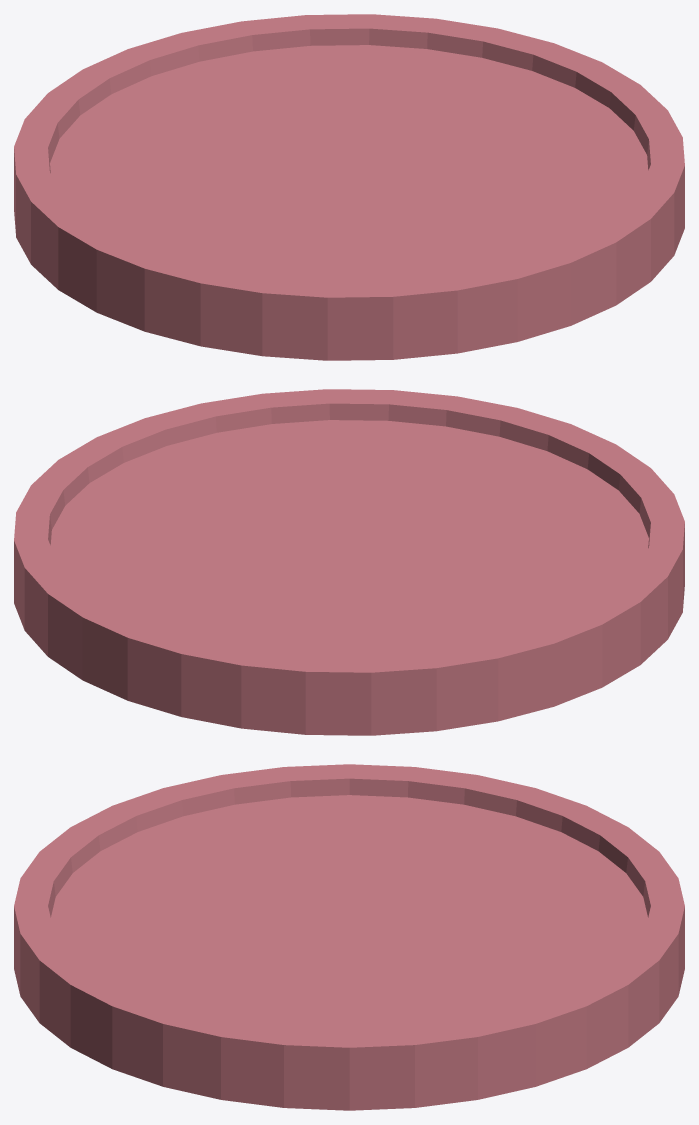
File: checker.fbx
The picture shows the model from 3 angles, top to bottom: view 1: azimuth 30°, elevation 25°; view 2: azimuth 150°, elevation 25°; view 3: azimuth 270°, elevation 25°; orthographic projection.
Visible parts, largest first — view 1: Cylinder; view 2: Cylinder; view 3: Cylinder.
Part boxes in pixels (x1,y1,x2,y2): Cylinder: (14,14,684,360); Cylinder: (14,389,684,735); Cylinder: (14,764,684,1110).
Bounding box in the file's own units: 18.12 × 1.88 × 18.12.
